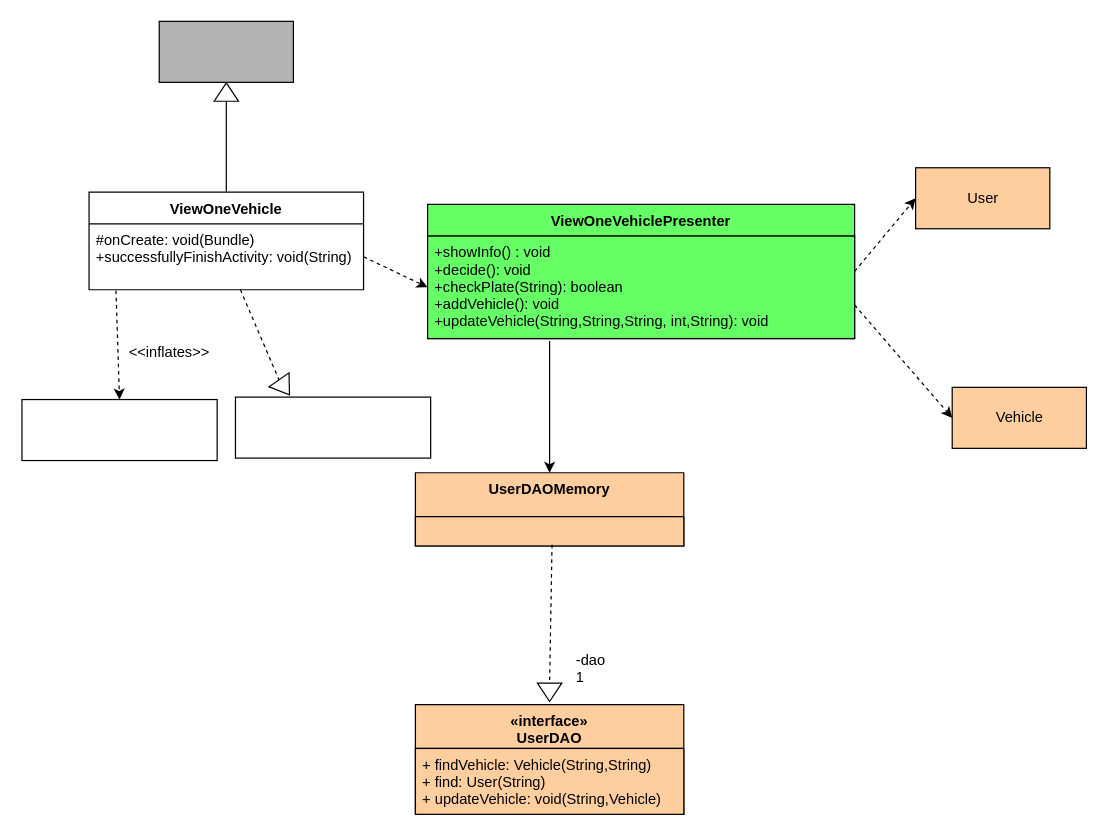
This 1108x839 diagram has some shape labels left out. The centre of each missing label's shape, as x and y in pixels:
"AppCompatActivity" belongs at point (225, 51).
"«interface» ViewOneVehicleView" belongs at point (332, 427).
"«layout» activity_add_vehicle.xml" belongs at point (119, 429).
